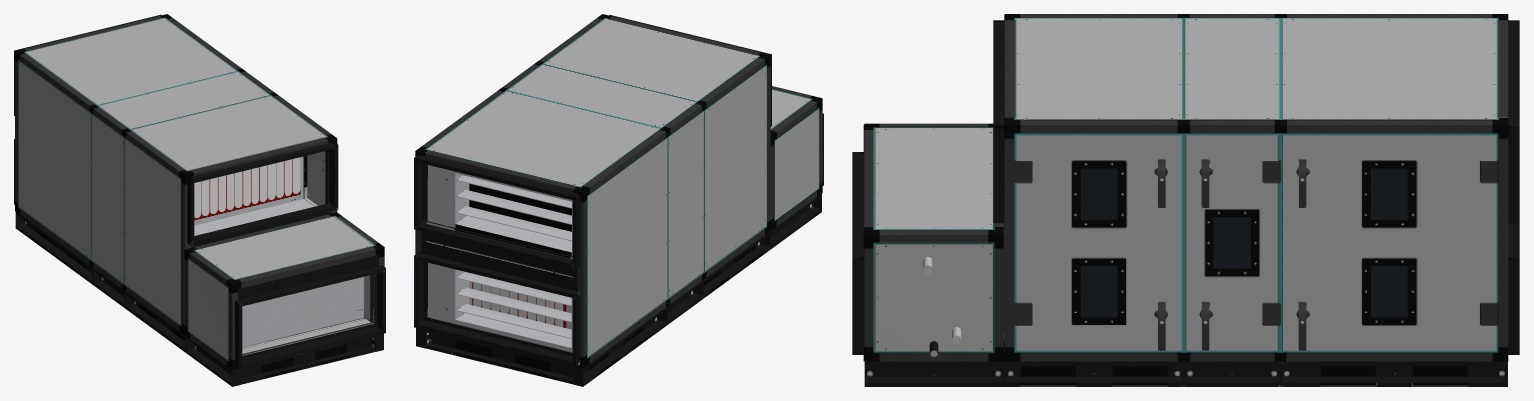
Rendered from Geniox_Small-Expo_2K_Diffuse.glb.
3 renders of one model, left to right at view 1: azimuth 30°, elevation 25°; view 2: azimuth 150°, elevation 25°; view 3: azimuth 270°, elevation 25°, orthographic. The views are drawn at different scales.
Visible parts, largest first — view 1: Geniox_Small-Expo; view 2: Geniox_Small-Expo; view 3: Geniox_Small-Expo.
Part boxes in pixels (x1,y1,x2,y2): Geniox_Small-Expo: (14,14,385,386); Geniox_Small-Expo: (414,14,823,386); Geniox_Small-Expo: (852,14,1519,386).
Size of the model in its own units: 1.17 by 1.2 by 2.76.
1 material, 1 textured.
